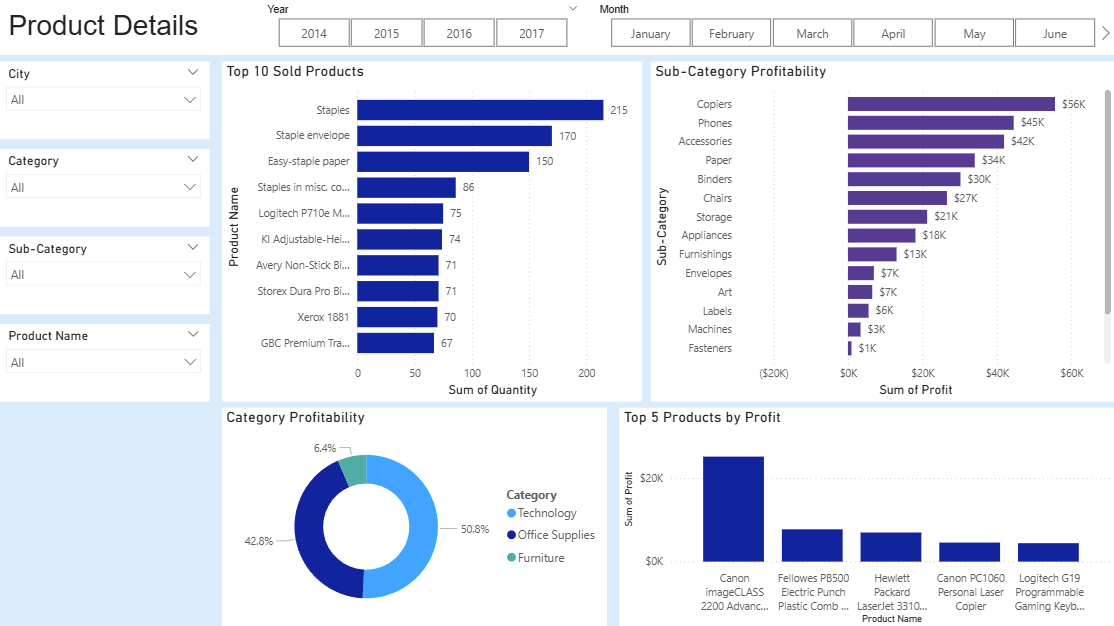

The dashboard page shown, as its layout file describes it:
{"tool":"powerbi","page":{"name":"Product Details","canvas":[1280,720],"ordinal":1},"visuals":[{"type":"textbox","box":[0,0,1280,63.8],"z":0},{"type":"slicer","fields":{"Values":["Customers.City"]},"box":[0,71.4,242.9,88.6],"z":1000},{"type":"slicer","fields":{"Values":["Products.Category"]},"box":[0,171.4,242.9,88.6],"z":2000},{"type":"slicer","fields":{"Values":["Products.Sub-Category"]},"box":[0,271.4,242.9,88.6],"z":3000},{"type":"slicer","fields":{"Values":["Products.Product Name"]},"box":[0,371,243,89],"z":4000},{"type":"slicer","fields":{"Values":["Orders.Order Date.Variation.Date Hierarchy.Year"]},"box":[295.7,0,380,61.4],"z":5000},{"type":"slicer","fields":{"Values":["Orders.Order Date.Variation.Date Hierarchy.Month"]},"box":[675.7,0,602.9,61.4],"z":6000},{"type":"donutChart","title":"Category Profitability","fields":{"Category":["Products.Category"],"Y":["Sum(Orders.Profit)"]},"box":[257.1,467.1,440,252.9],"z":7000},{"type":"clusteredBarChart","title":"Top 10 Sold Products","fields":{"Y":["Sum(Orders.Quantity)"],"Category":["Products.Product Name"]},"box":[257.1,71.4,480,388.6],"z":8000},{"type":"clusteredColumnChart","title":"Top 5 Products by Profit","fields":{"Category":["Products.Product Name"],"Y":["Sum(Orders.Profit)"]},"box":[711.4,467.1,568.6,252.9],"z":9000},{"type":"clusteredBarChart","title":"Sub-Category Profitability","fields":{"Category":["Products.Sub-Category"],"Y":["Sum(Orders.Profit)"]},"box":[747.1,71.4,531.4,388.6],"z":10000}]}

Visuals, with their boxes in screenshot pixels (x1, y1, x2, y2), scaled from the page's 1280x720 canvas onto the 1114x626 screenshot:
textbox: bbox(0, 0, 1113, 55)
slicer - Customers.City: bbox(0, 62, 211, 139)
slicer - Products.Category: bbox(0, 149, 211, 226)
slicer - Products.Sub-Category: bbox(0, 236, 211, 313)
slicer - Products.Product Name: bbox(0, 323, 211, 400)
slicer - Orders.Order Date.Variation.Date Hierarchy.Year: bbox(257, 0, 588, 53)
slicer - Orders.Order Date.Variation.Date Hierarchy.Month: bbox(588, 0, 1113, 53)
"Category Profitability" donutChart: bbox(224, 406, 607, 625)
"Top 10 Sold Products" clusteredBarChart: bbox(224, 62, 642, 400)
"Top 5 Products by Profit" clusteredColumnChart: bbox(619, 406, 1113, 625)
"Sub-Category Profitability" clusteredBarChart: bbox(650, 62, 1113, 400)
